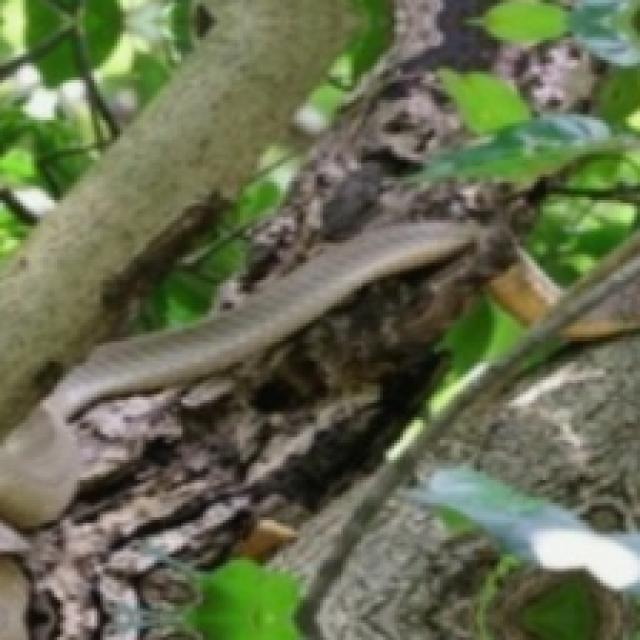king cobra: (0, 0, 637, 637), (429, 234, 637, 523)
